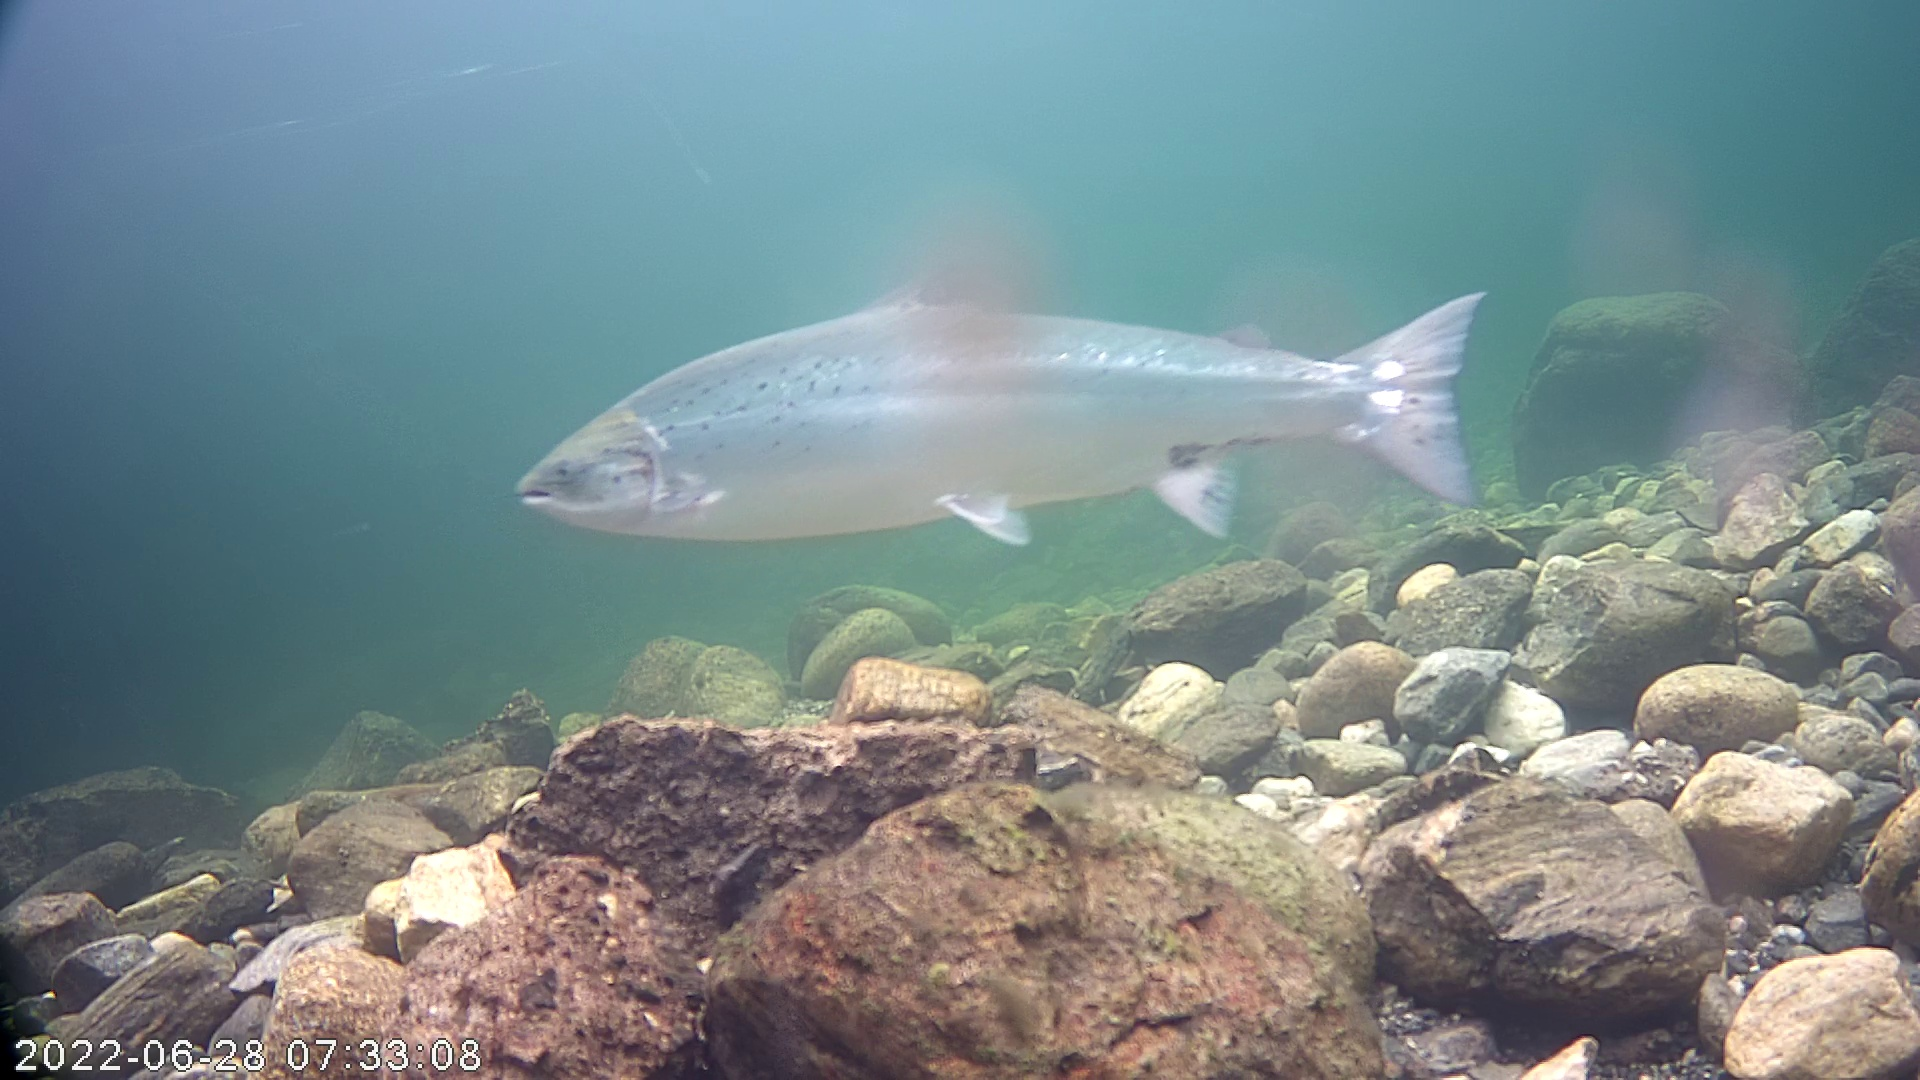salmon: (509, 138, 1518, 621)
